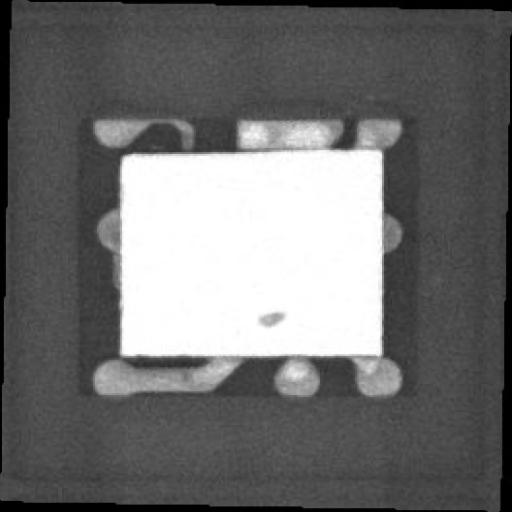DIE_INK: (243, 320, 273, 341)
